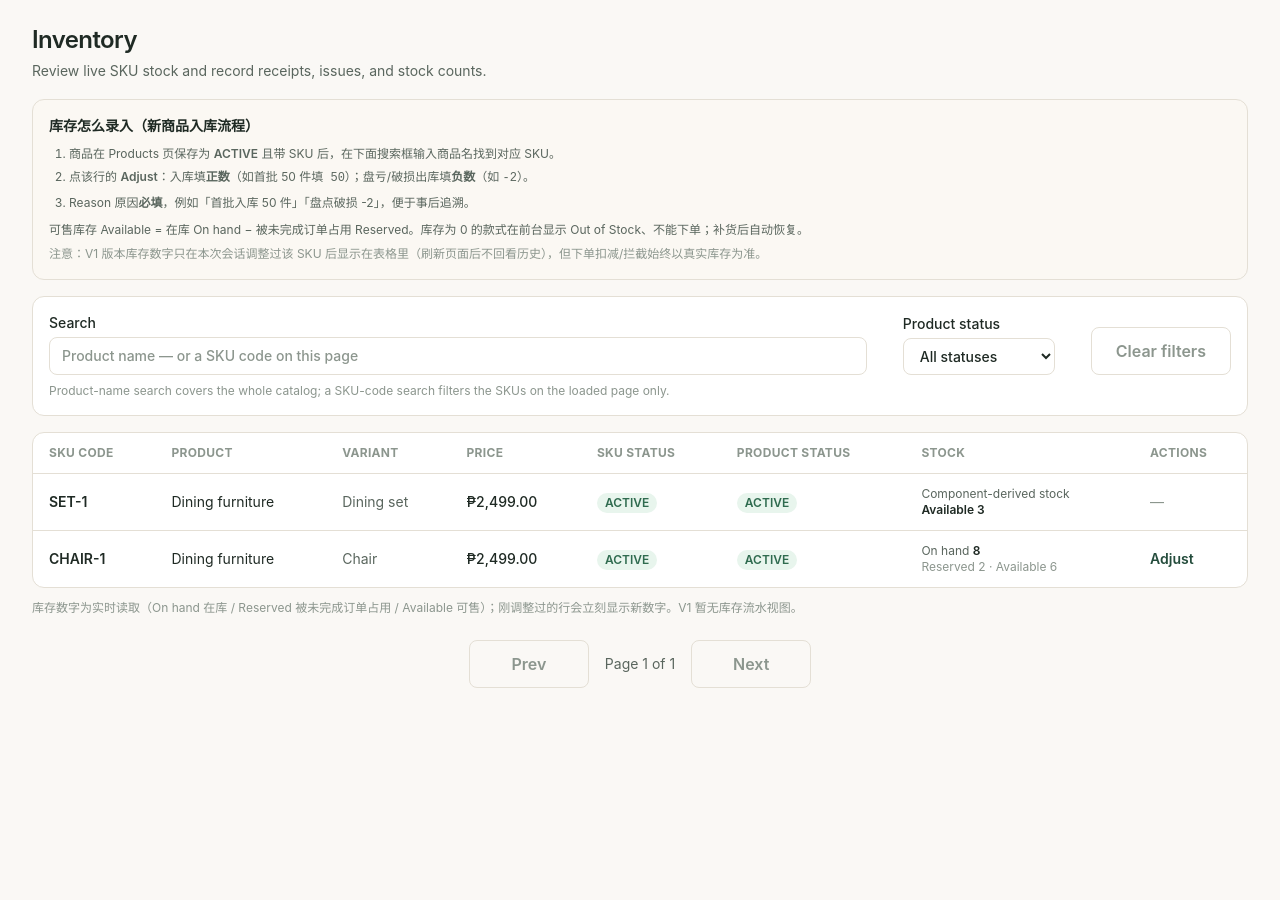
Bundle inventory rows › keeps physical adjustment working for an ordinary SKU alongside a Bundle
Click the button "Adjust" at (1172, 559), box [1150,549,1194,569]
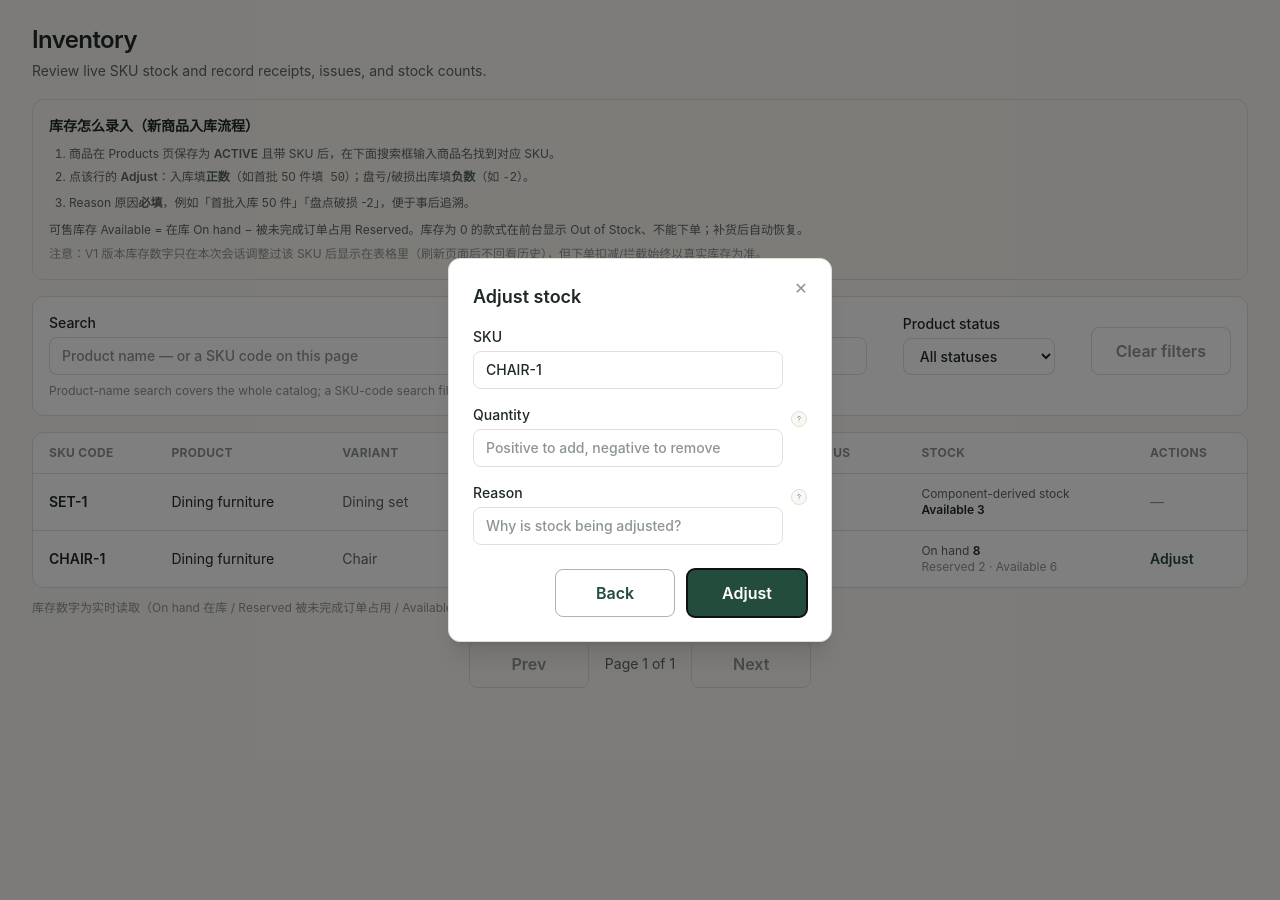
Type "1" into the number field labelled "Quantity" at (628, 448), box [473,429,783,467]
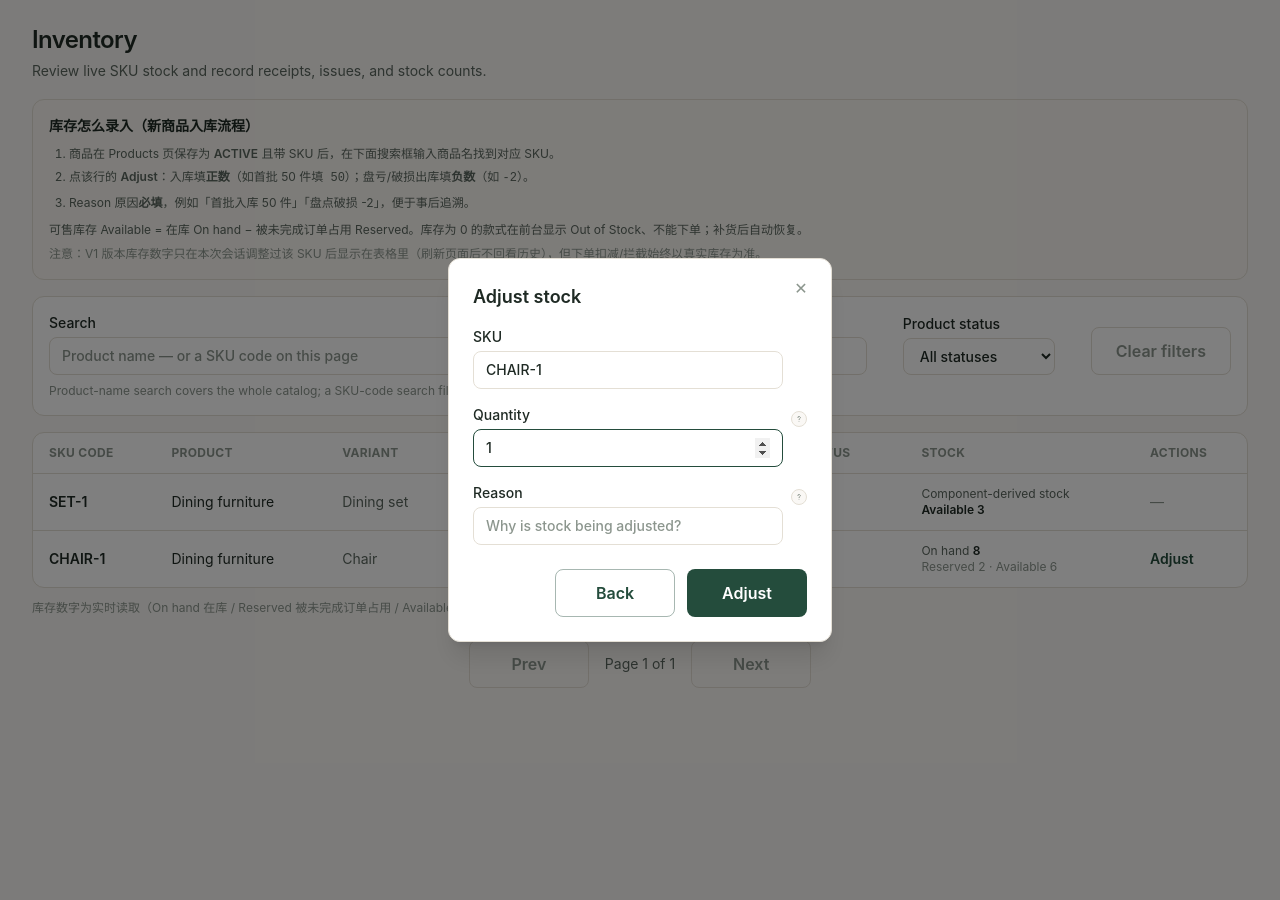
Type "Stock count" into the field labelled "Reason" at (628, 526), box [473,507,783,545]
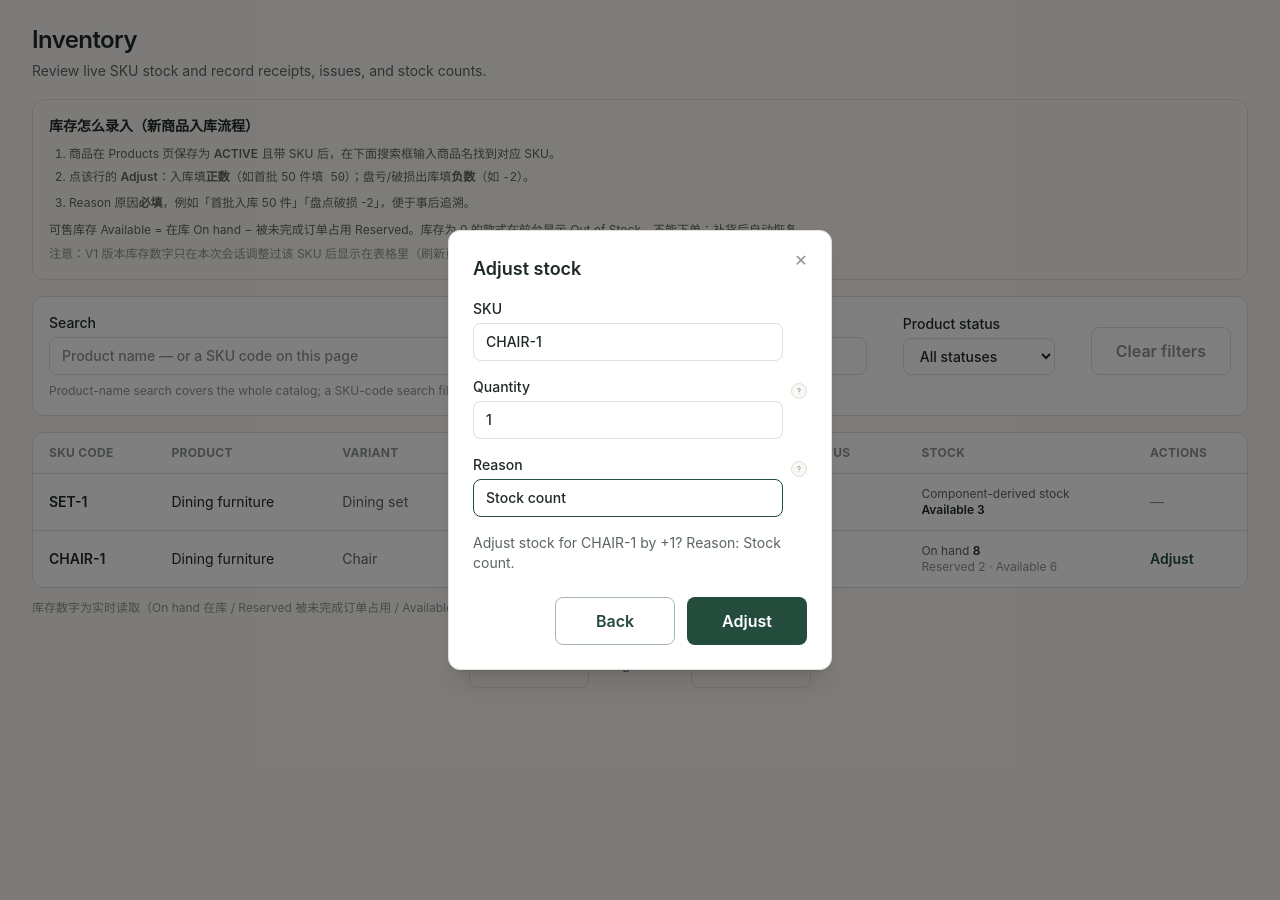
Click the button "Adjust" at (747, 621), box [687,597,807,645]
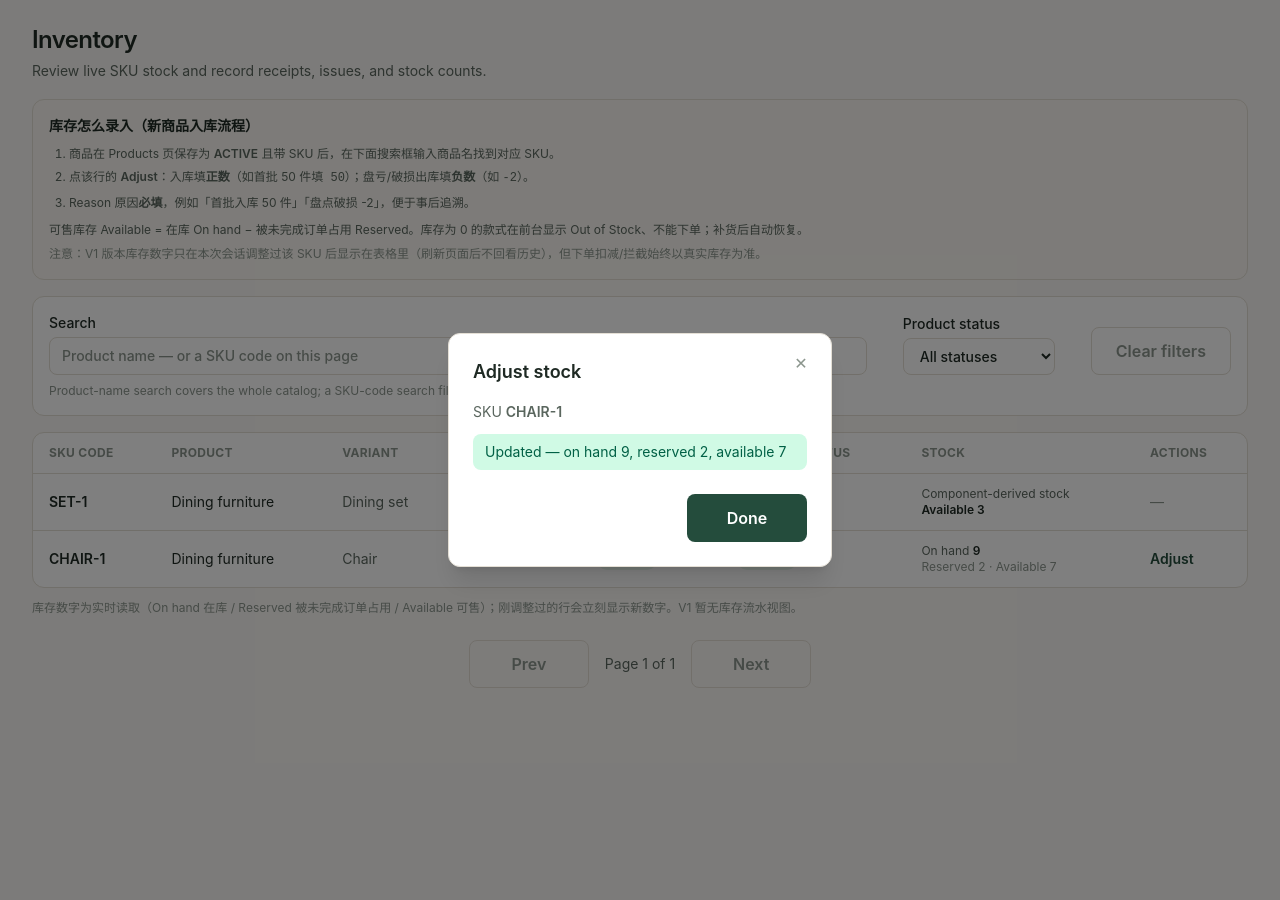
Expected: the message shows "on hand 9", [473,434,807,470]
